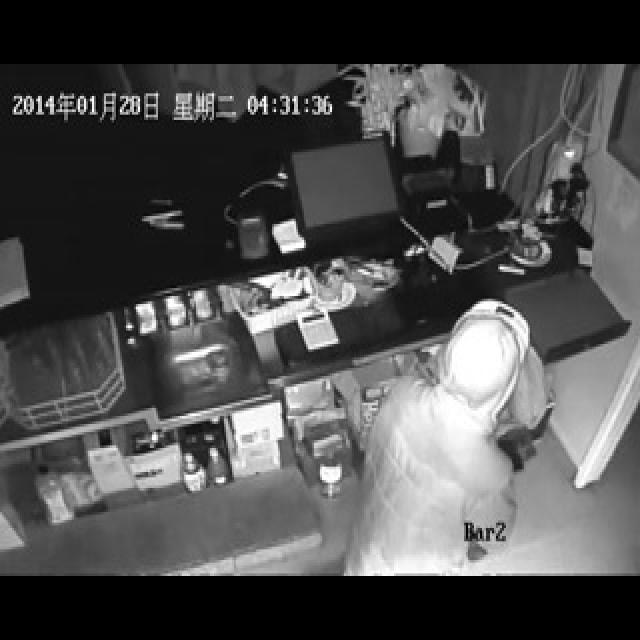thief: (418, 295, 536, 513)
